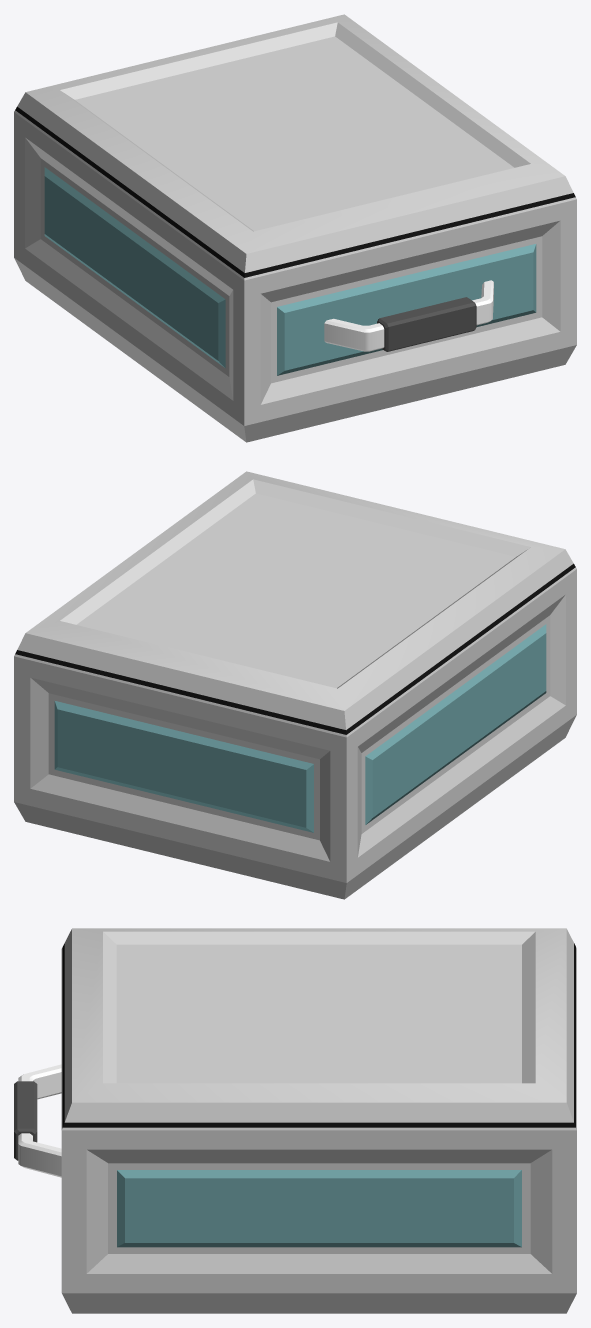
The picture shows the model from 3 angles, top to bottom: view 1: azimuth 30°, elevation 25°; view 2: azimuth 150°, elevation 25°; view 3: azimuth 270°, elevation 25°; orthographic projection. The views are drawn at different scales.
Visible parts, largest first — view 1: Plane003.003; view 2: Plane003.003; view 3: Plane003.003.
Boxes of the visible parts, <box> form: Plane003.003: <box>14,14,576,442</box>; Plane003.003: <box>14,471,576,899</box>; Plane003.003: <box>14,928,576,1313</box>.
Size of the model in its own units: 74.77 by 43.59 by 97.92.
